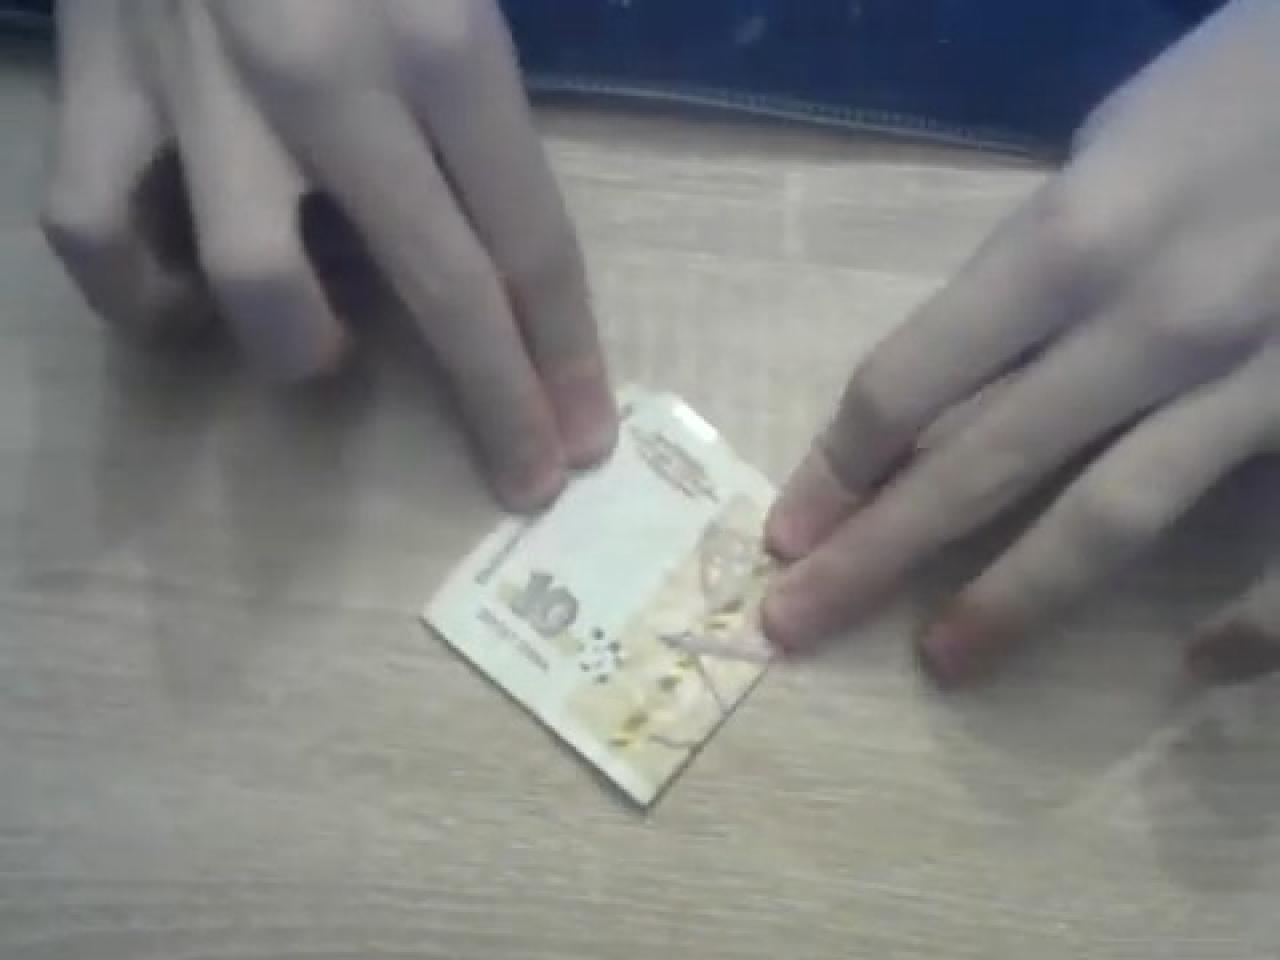10leva: (418, 394, 776, 814)
